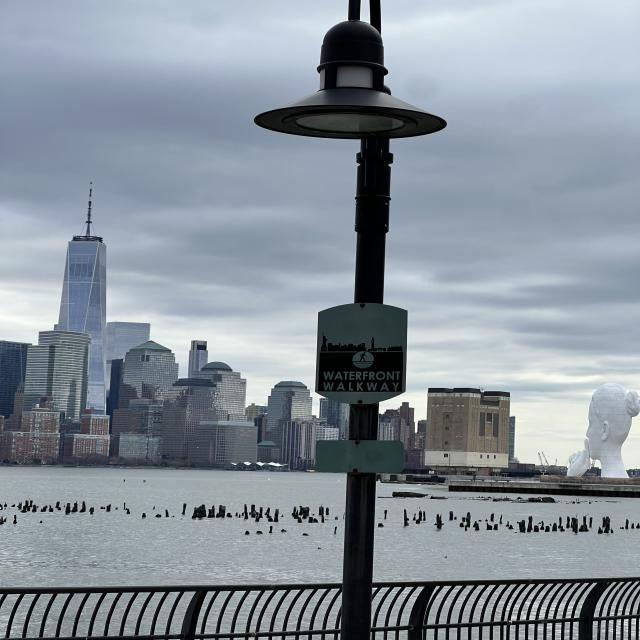WTC: (58, 182, 108, 332)
